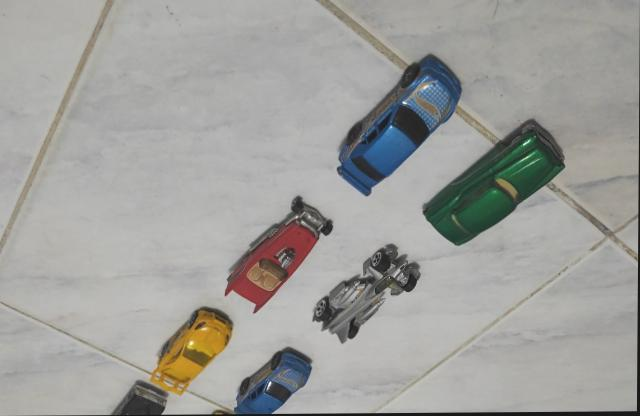01_FORD: (110, 384, 169, 415)
03_V8: (223, 195, 334, 314)
04_MERZEDES: (335, 53, 463, 196), (233, 346, 314, 415)
05_DC121: (312, 243, 422, 343)
06_MASERATI: (421, 118, 566, 247)
07_RHLTURBO: (150, 305, 235, 395)
